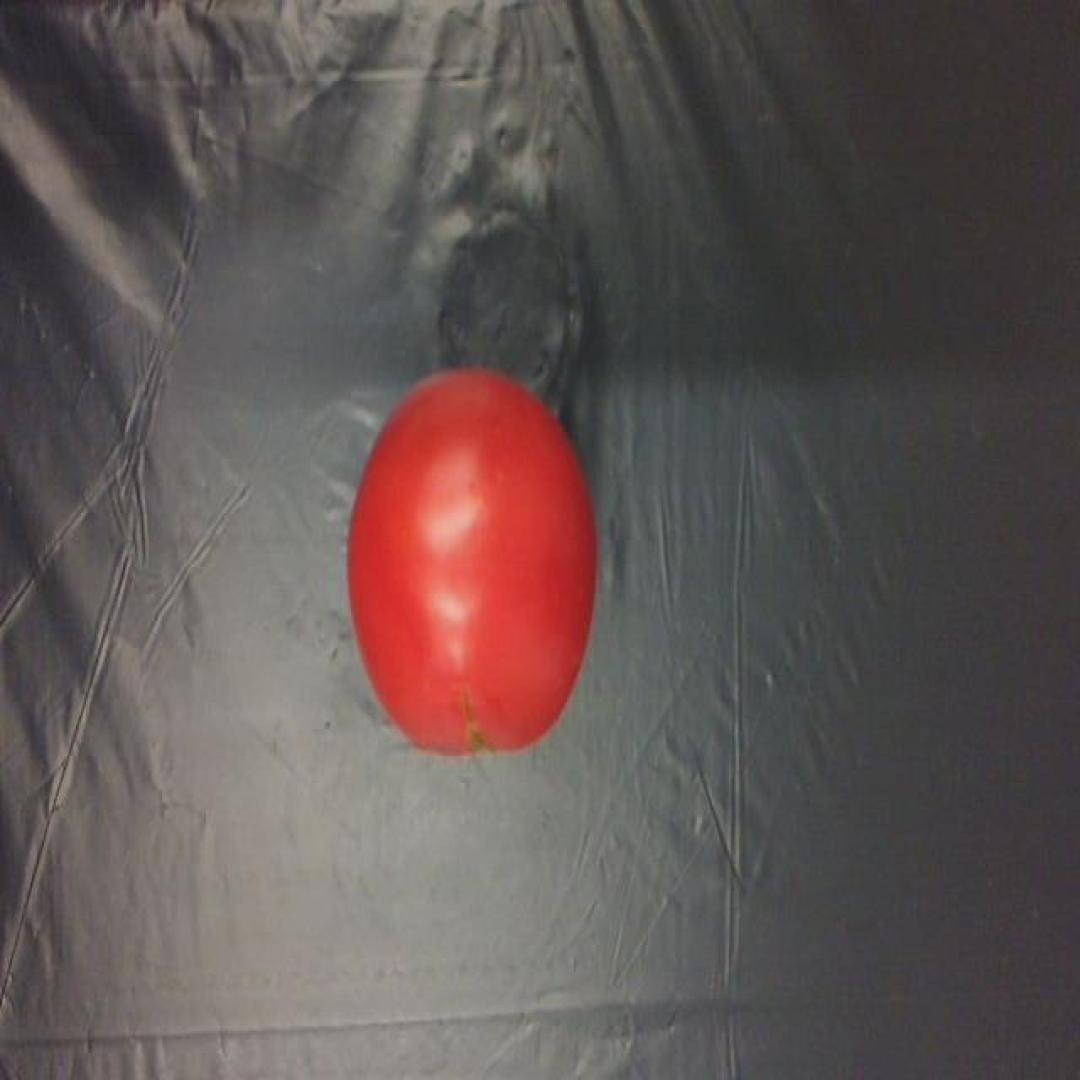matang: (344, 368, 594, 759)
